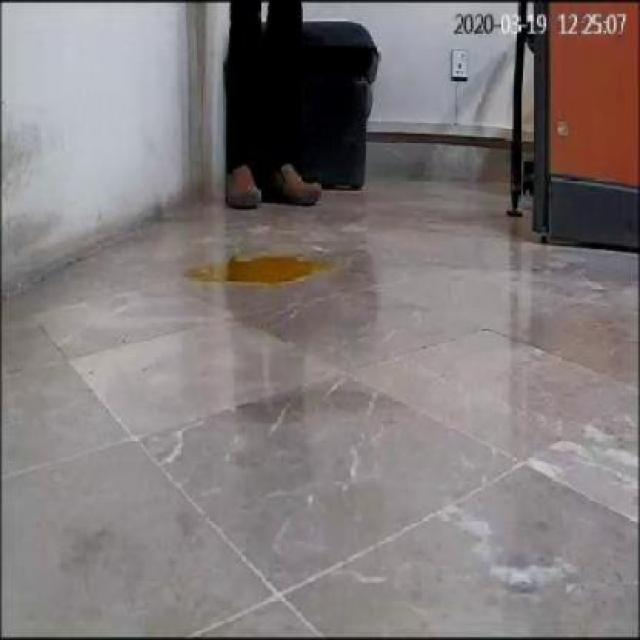spillage: (187, 255, 334, 287)
